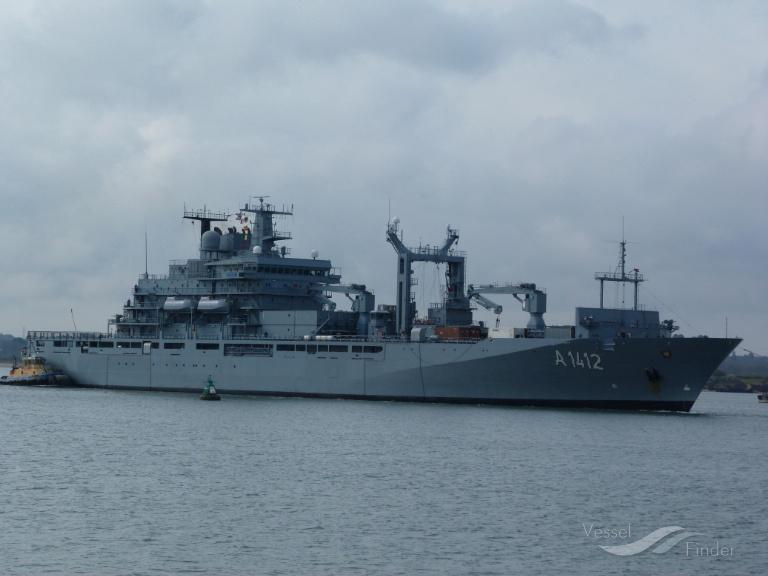OCR: (545, 340, 614, 376)
